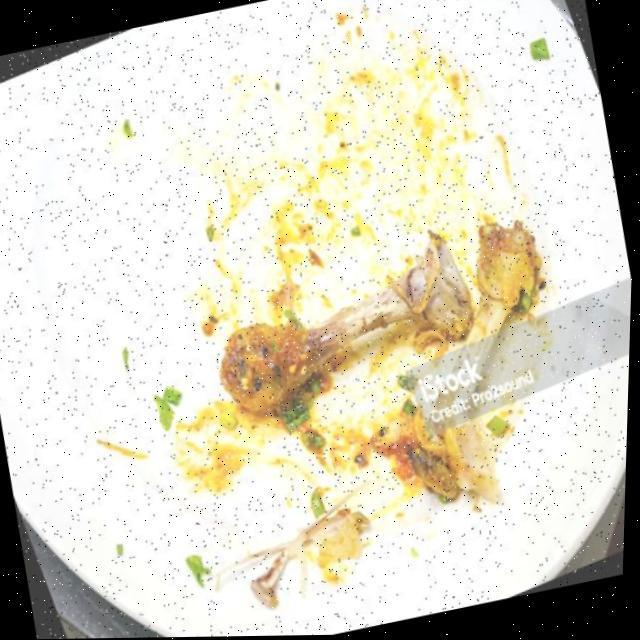Wet Waste: (334, 223, 621, 513), (206, 236, 494, 428)
